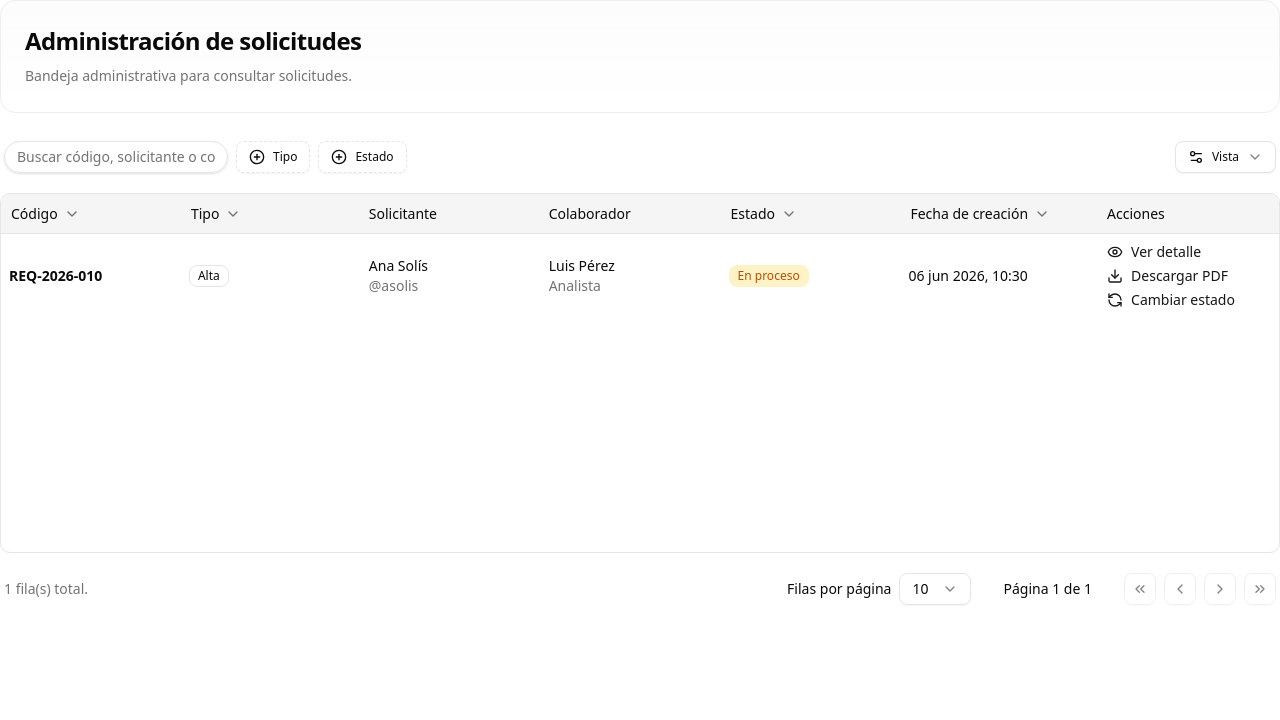
Scenario: MiAccesoAdministrationPage › deshabilita el botón del estado actual dentro del modal
What coordinates should you click on to do the following:
click the button "Cambiar estado"
I would click on:
 (1171, 300)
Its box is [1107, 290, 1235, 310].
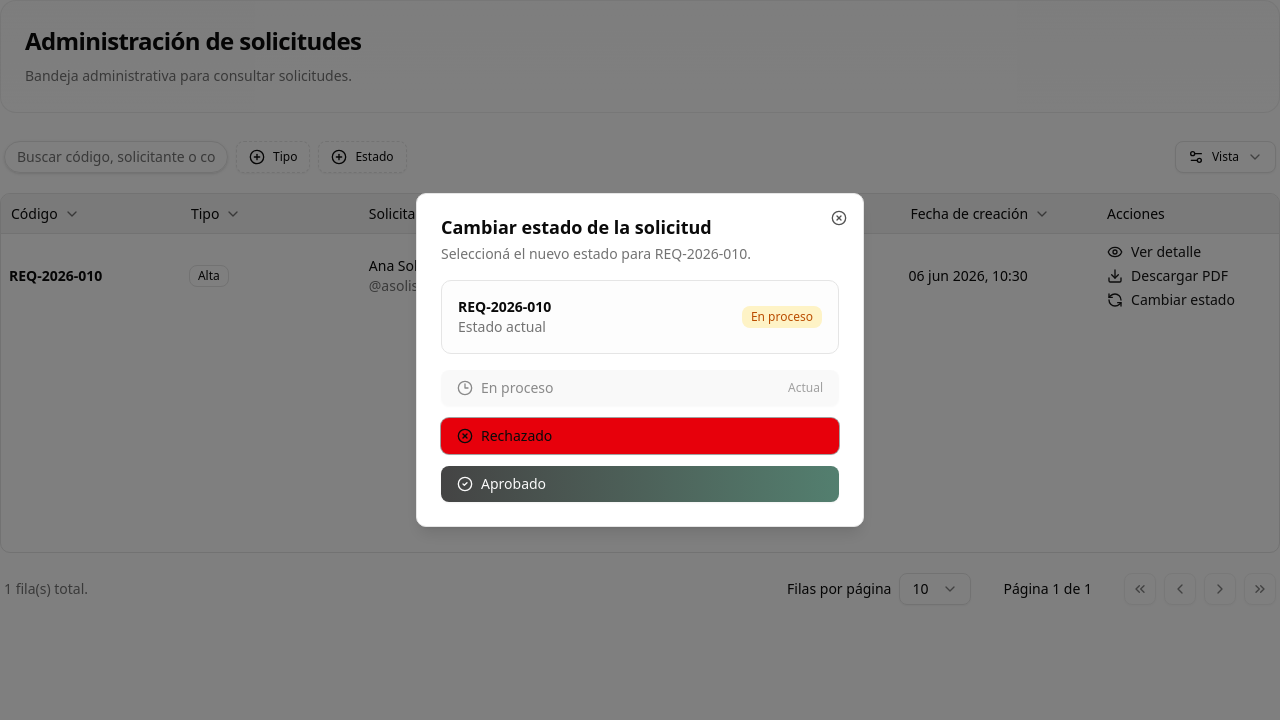
Now the button "En proceso Actual" is disabled, box [441, 370, 839, 406]
Now the button "Rechazado" is enabled, box [441, 418, 839, 454]
Now the button "Aprobado" is enabled, box [441, 466, 839, 502]
